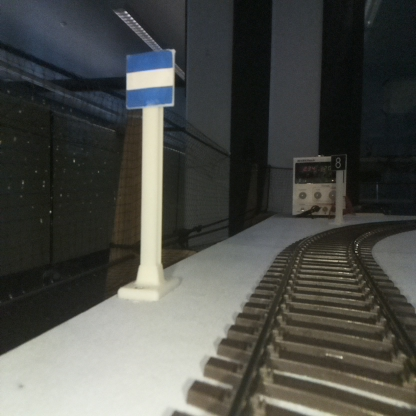start: (126, 49, 173, 297)
white-info-8: (332, 156, 345, 223)
